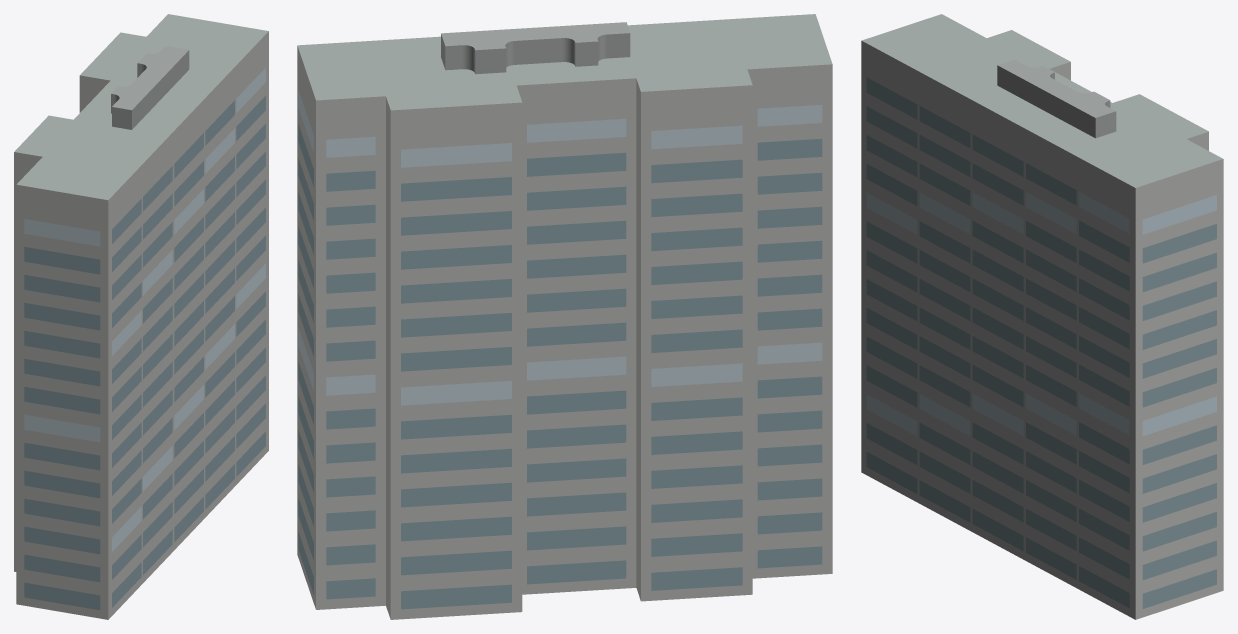
Rendered from fallback-gaepo-raemian-forest-108.glb.
The picture shows the model from 3 angles, left to right: view 1: azimuth 30°, elevation 25°; view 2: azimuth 150°, elevation 25°; view 3: azimuth 270°, elevation 25°; orthographic projection. The views are drawn at different scales.
Visible parts, largest first — view 1: fallback-gaepo-raemian-forest-108; view 2: fallback-gaepo-raemian-forest-108; view 3: fallback-gaepo-raemian-forest-108.
Boxes of the visible parts, x1,y1,x2,y2 form: fallback-gaepo-raemian-forest-108: [14, 14, 268, 619]; fallback-gaepo-raemian-forest-108: [297, 14, 832, 619]; fallback-gaepo-raemian-forest-108: [861, 14, 1223, 619].
Size of the model in its own units: 38.8 by 47 by 34.1.
